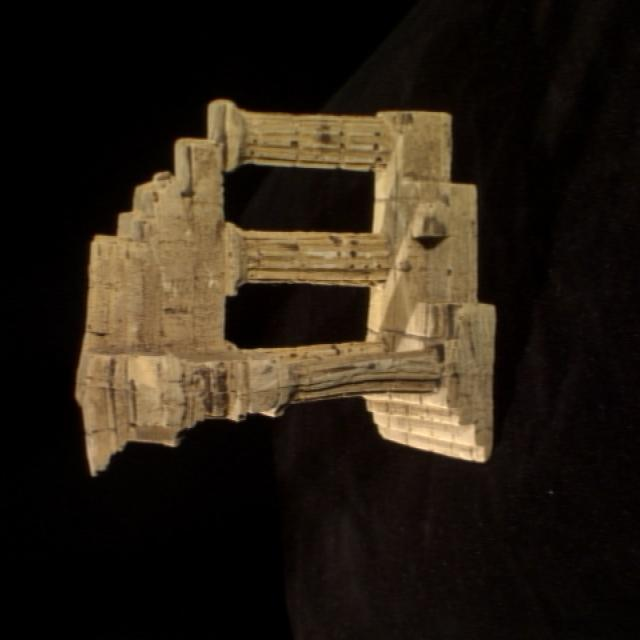Instance-Segmentation: (76, 101, 495, 472)
